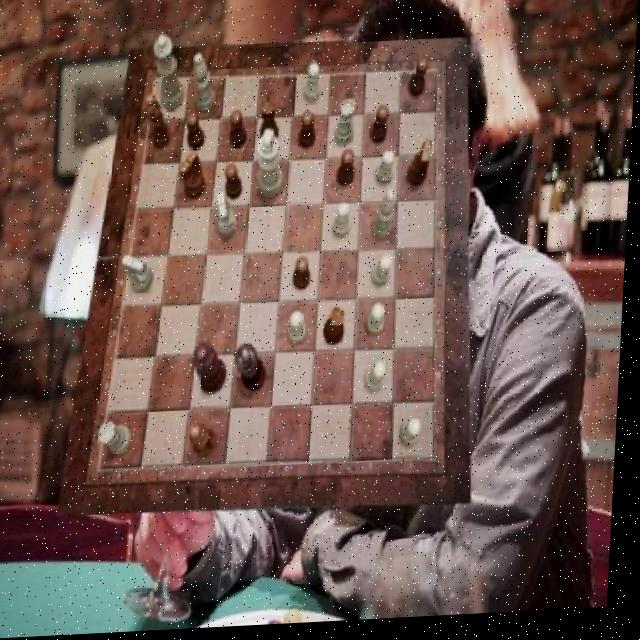bishop: (144, 94, 173, 151), (193, 426, 222, 461)
black-bishop: (237, 346, 272, 394)
black-king: (180, 151, 209, 201), (409, 144, 433, 191)
black-knight: (187, 115, 209, 153), (410, 62, 429, 103), (373, 110, 392, 149), (231, 113, 250, 151), (227, 165, 246, 202), (339, 153, 358, 190), (301, 113, 319, 151), (296, 261, 315, 295)
black-pawn: (196, 344, 233, 399)
black-queen: (260, 101, 281, 149), (327, 311, 349, 351)
black-rook: (192, 54, 218, 114), (374, 192, 399, 244)
white-bishop: (258, 131, 288, 201)
white-king: (124, 256, 159, 296), (217, 195, 240, 241)
white-knight: (369, 365, 390, 398), (334, 207, 353, 243), (305, 67, 322, 107), (375, 259, 396, 291), (378, 154, 397, 189), (370, 308, 389, 342), (405, 422, 427, 450), (292, 315, 310, 348)
white-pawn: (152, 37, 188, 114)
white-queen: (103, 421, 137, 457), (335, 102, 356, 149)
